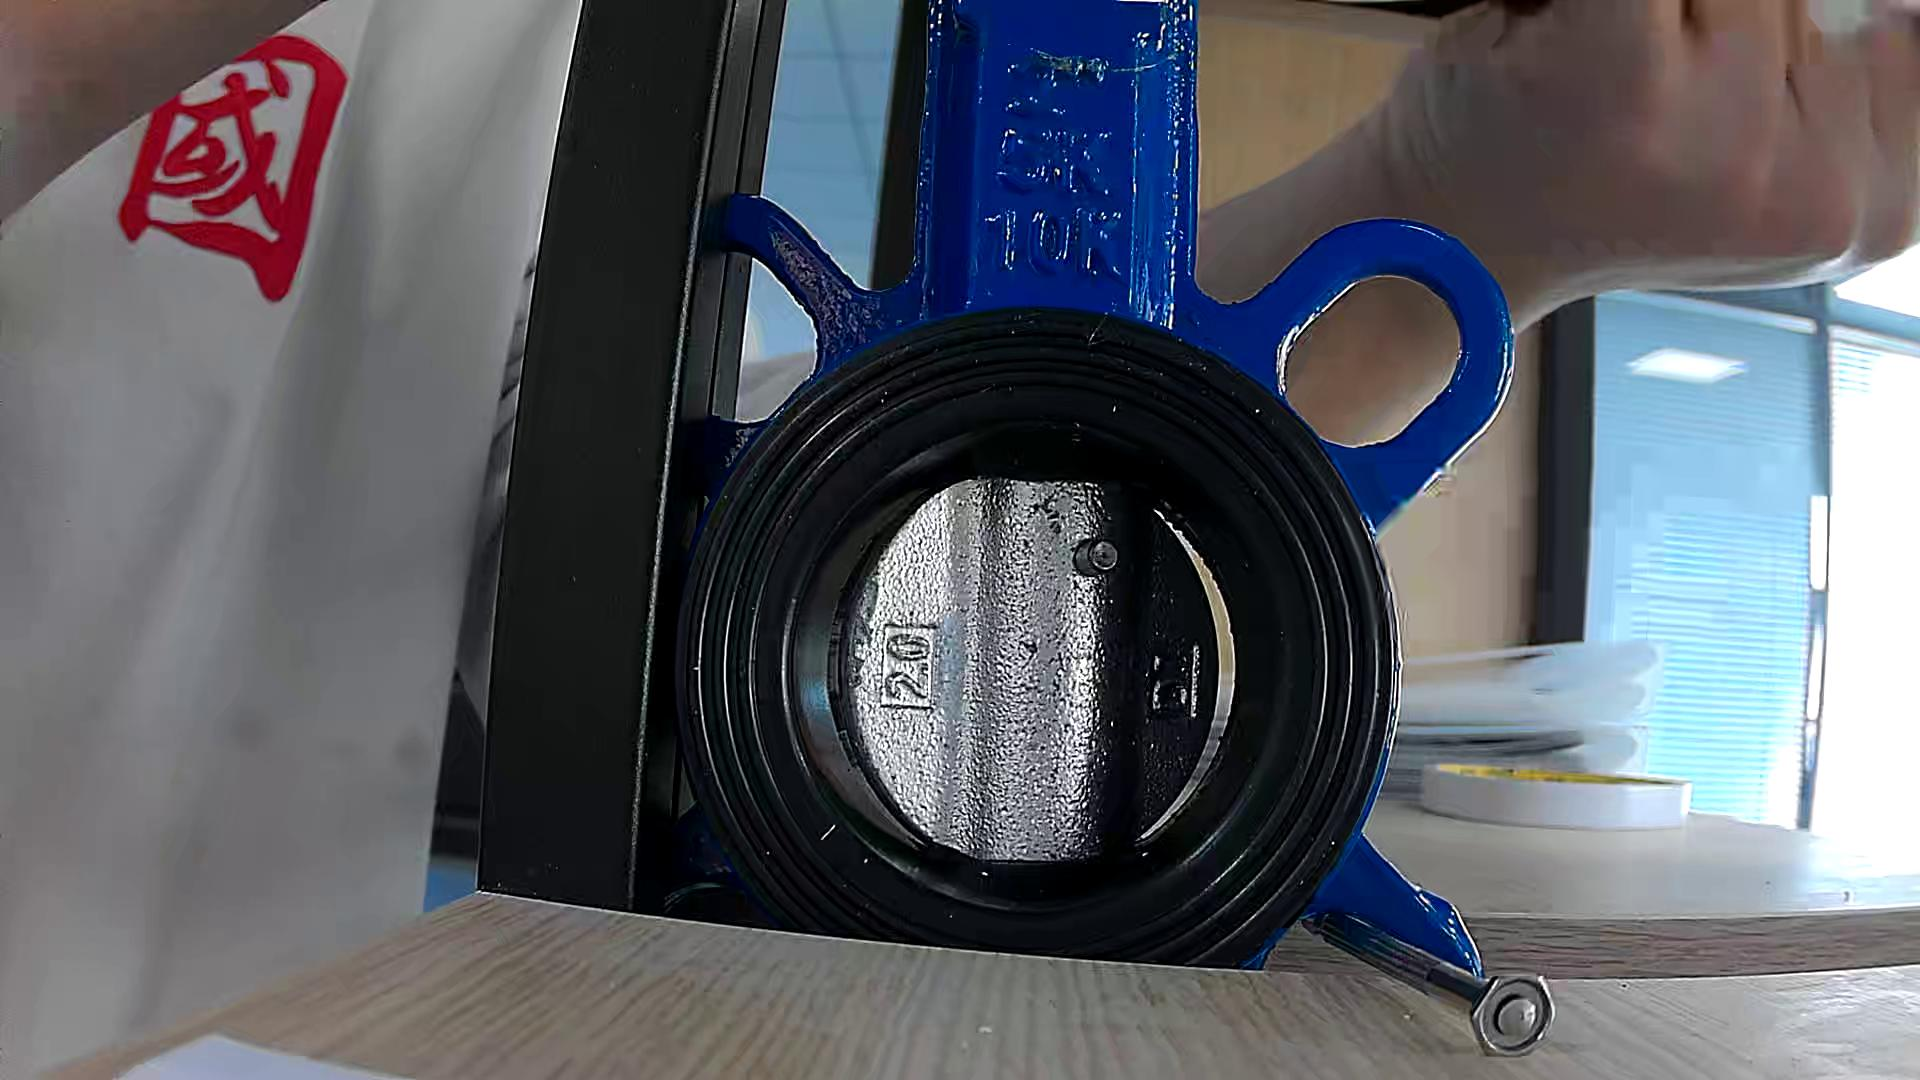valve: (841, 473, 1218, 862)
